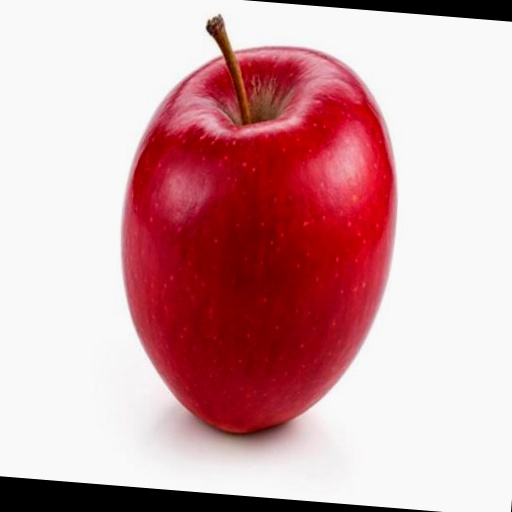fruit: (122, 48, 395, 432)
